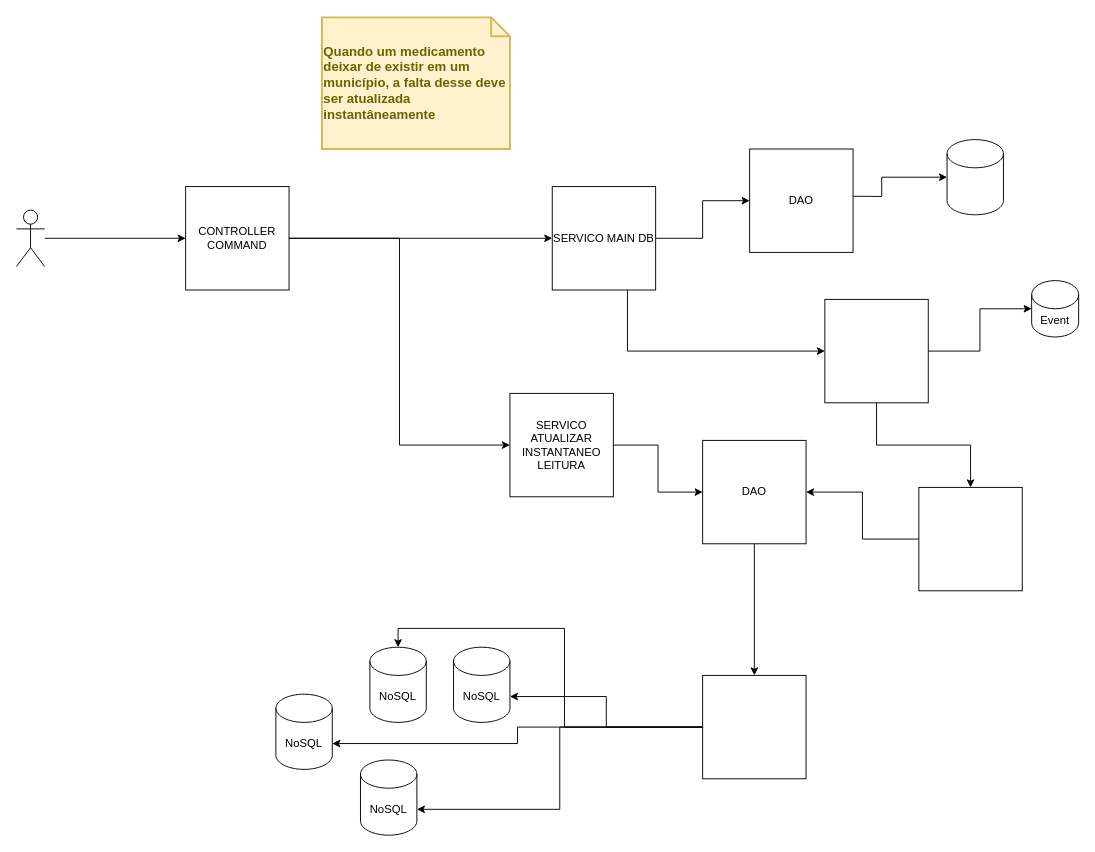
This 1095x852 diagram has some shape labels left out. Here are the shapes that lost their labels. From the top down, the centre of each, then its label:
At pixel 974 177: "SQL".
At pixel 30 237: "Actor".
At pixel 876 350: "SERVICO EVENT SOURCE".
At pixel 970 538: "CRONO SERVICE".
At pixel 754 726: "PROXY REVERSE".
